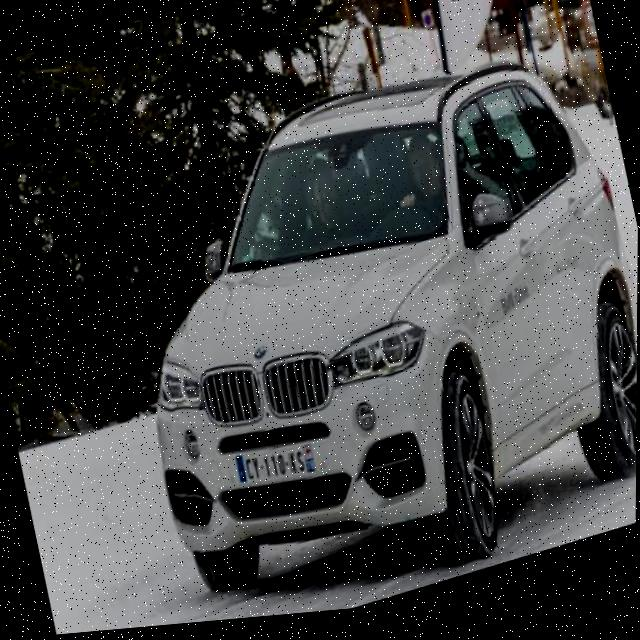license_plate: (236, 439, 318, 501)
